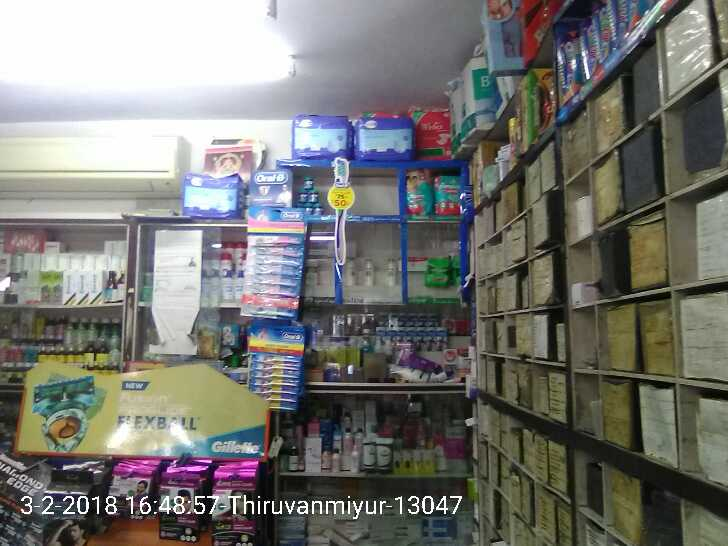oralcare: (248, 170, 301, 316), (245, 325, 308, 411)
vicks: (297, 173, 324, 215)
